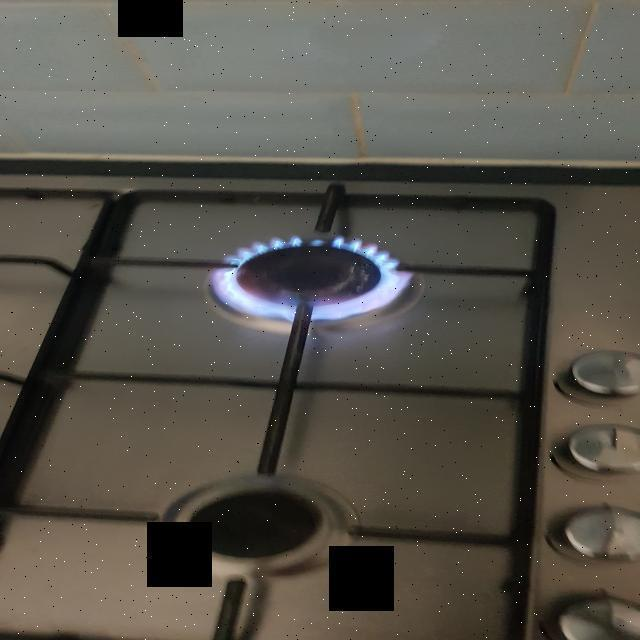Flame: (216, 244, 403, 319)
